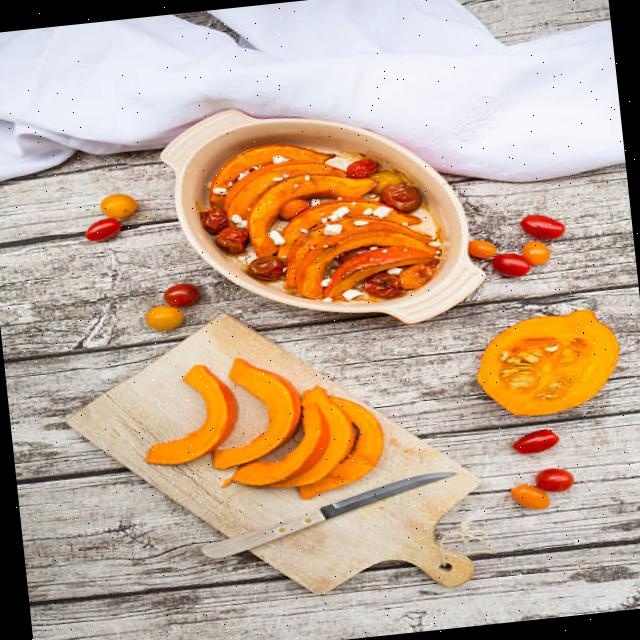pumpkin: (213, 358, 299, 468), (145, 364, 237, 465), (297, 396, 381, 498), (232, 403, 328, 485), (270, 398, 353, 486)
